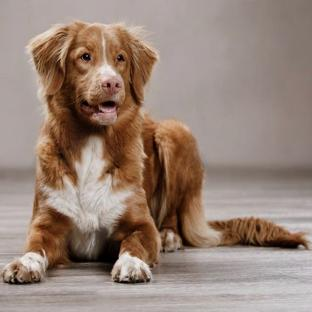Animal: (0, 21, 309, 283)
